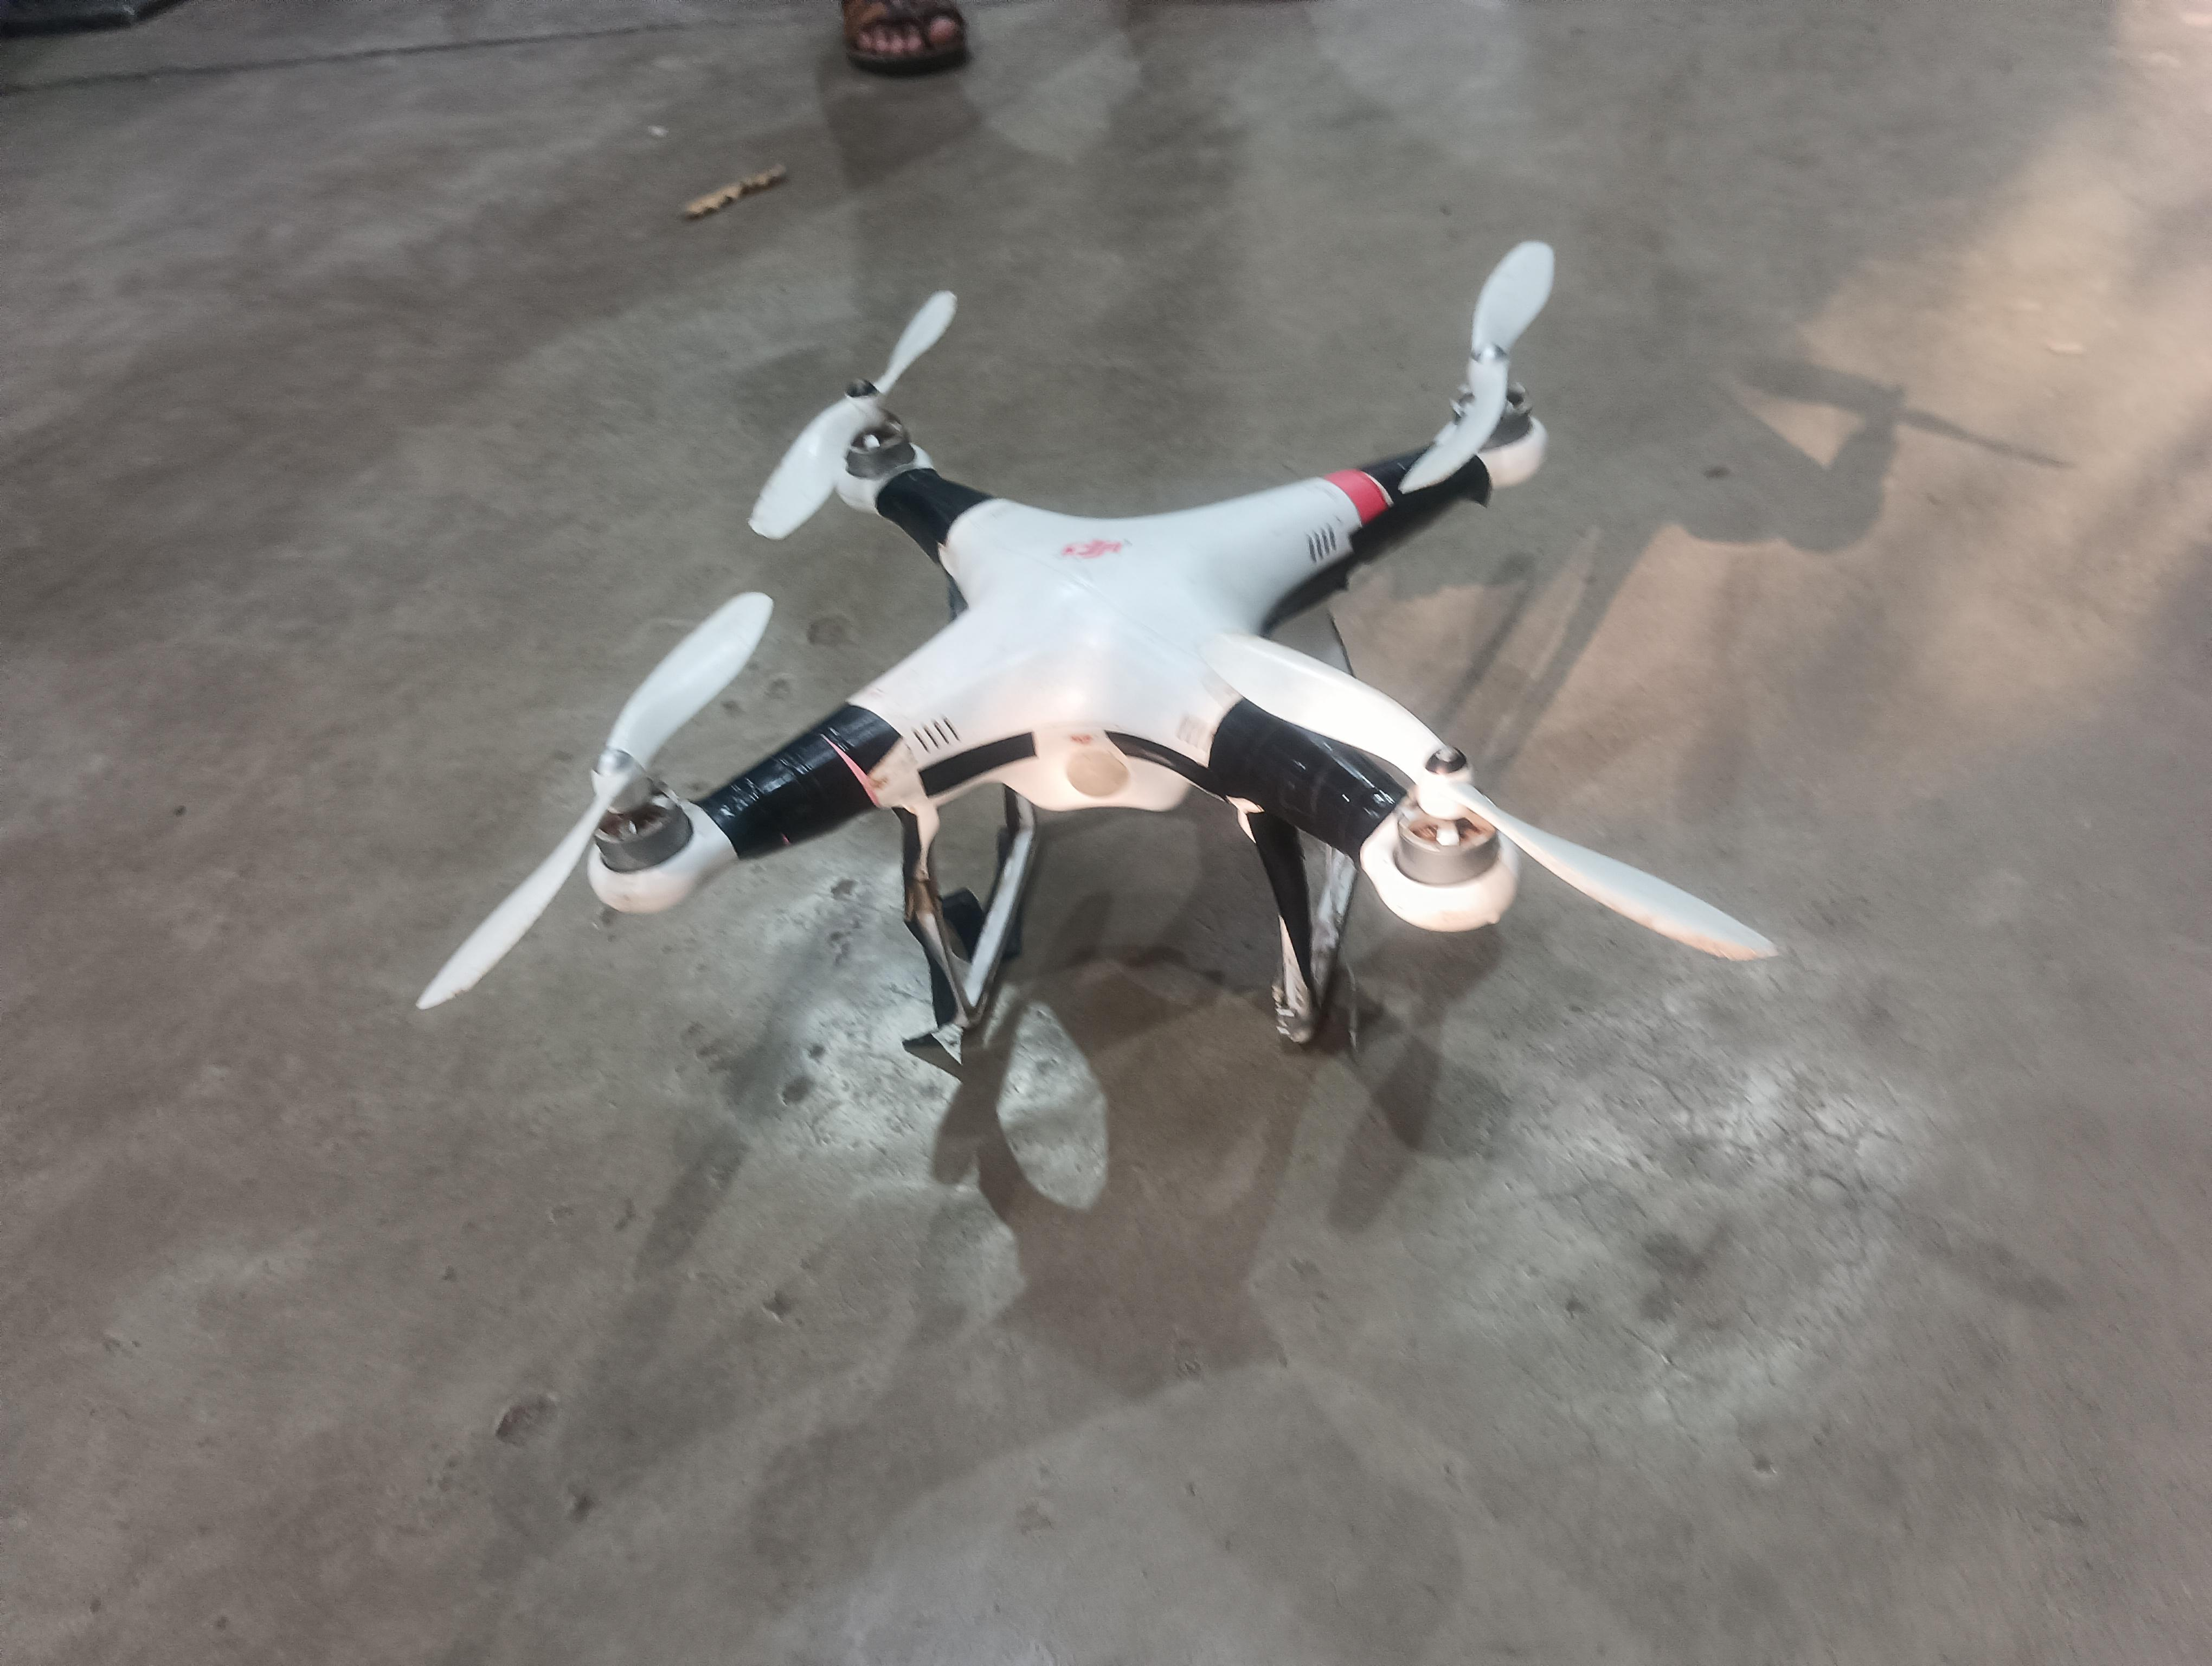drone: (310, 212, 1841, 1234)
